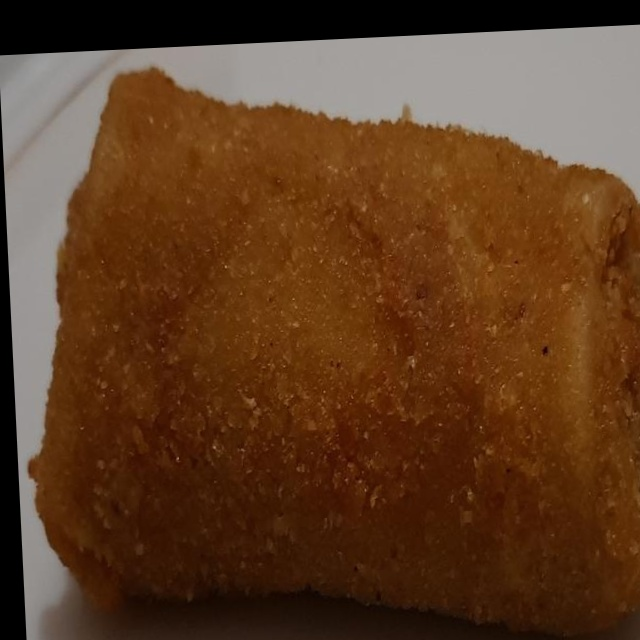Chicken Rolls: (8, 41, 640, 640)
